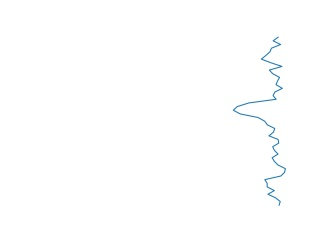interdistributaryEstuary: (230, 38, 291, 207)
